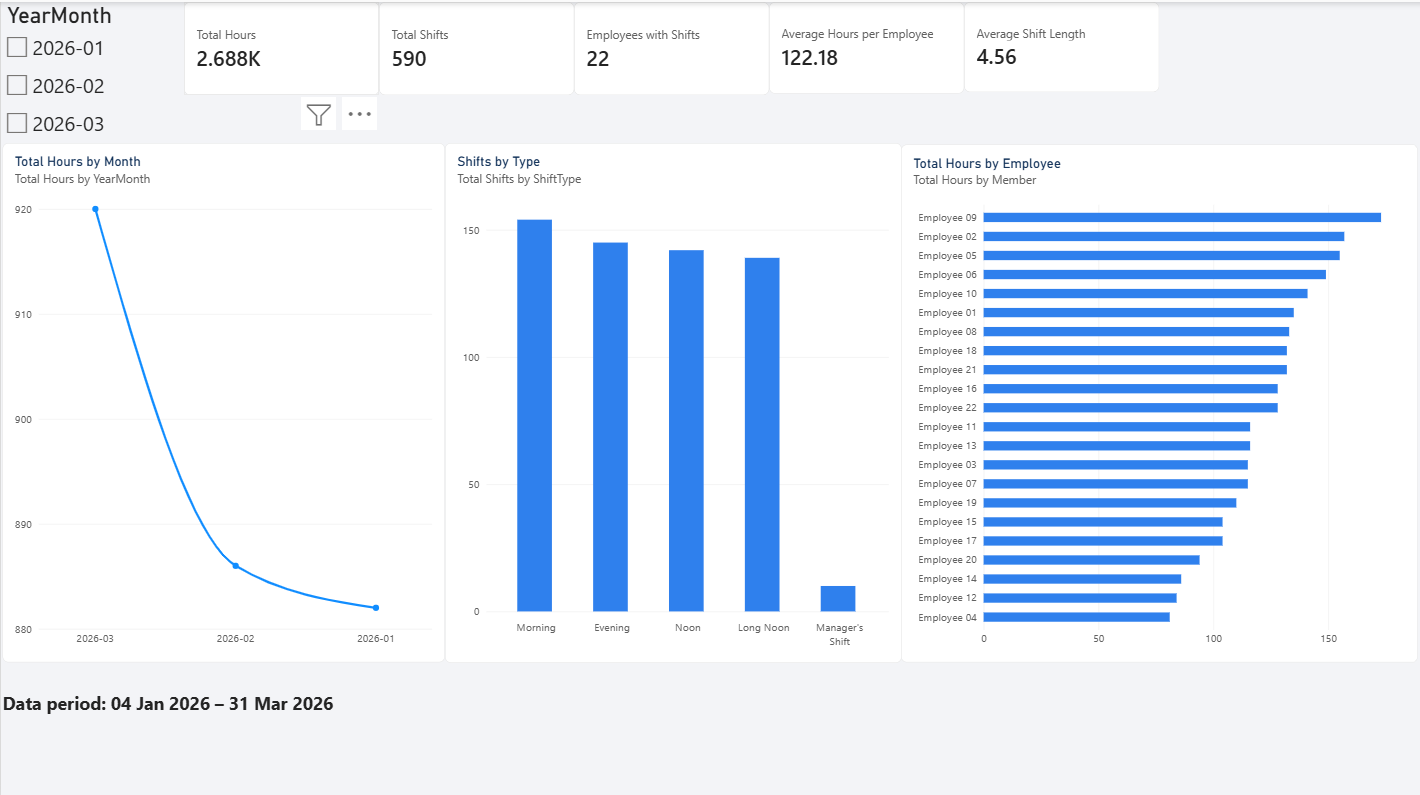

Layout of this report page (visuals, bound fields, positions):
{"tool":"powerbi","page":{"name":"Management Overview","canvas":[1920,1080],"ordinal":0},"visuals":[{"type":"slicer","fields":{"Values":["DimDate.YearMonth"]},"box":[0,0,247.5,192.5],"z":0},{"type":"cardVisual","fields":{"Data":["DimDate.Employees with Shifts"]},"box":[774.7,0,264,126],"z":1000},{"type":"cardVisual","fields":{"Data":["DimDate.Average Hours per Employee"]},"box":[1038.7,0,264,124],"z":2000},{"type":"cardVisual","fields":{"Data":["DimDate.Average Shift Length"]},"box":[1302.7,0,264,122],"z":3000},{"type":"cardVisual","fields":{"Data":["DimDate.Total Hours"]},"box":[246.7,0,264,126],"z":4000},{"type":"cardVisual","fields":{"Data":["DimDate.Total Shifts"]},"box":[510.7,0,264,126],"z":5000},{"type":"lineChart","title":"Total Hours by Month","fields":{"Category":["DimDate.YearMonth"],"Y":["DimDate.Total Hours"]},"box":[1.5,190.3,598,702],"z":6000},{"type":"clusteredColumnChart","title":"Shifts by Type","fields":{"Category":["FactShifts.ShiftType"],"Y":["DimDate.Total Shifts"]},"box":[600,190,617.5,702.5],"z":7000},{"type":"clusteredBarChart","title":"Total Hours by Employee","fields":{"Category":["DimEmployee.Member"],"Y":["DimDate.Total Hours"]},"box":[1217.5,192.5,700,700],"z":8000},{"type":"textbox","box":[2.5,930,597.5,52.5],"z":9000}]}

Visuals, with their boxes in screenshot pixels (x1, y1, x2, y2), scaled from the page's 1920x1080 canvas onto the 1420x795 screenshot:
slicer - DimDate.YearMonth: 0/0/183/142
cardVisual - DimDate.Employees with Shifts: 573/0/768/93
cardVisual - DimDate.Average Hours per Employee: 768/0/963/91
cardVisual - DimDate.Average Shift Length: 963/0/1159/90
cardVisual - DimDate.Total Hours: 182/0/378/93
cardVisual - DimDate.Total Shifts: 378/0/573/93
"Total Hours by Month" lineChart: 1/140/443/657
"Shifts by Type" clusteredColumnChart: 444/140/900/657
"Total Hours by Employee" clusteredBarChart: 900/142/1418/657
textbox: 2/685/444/723
